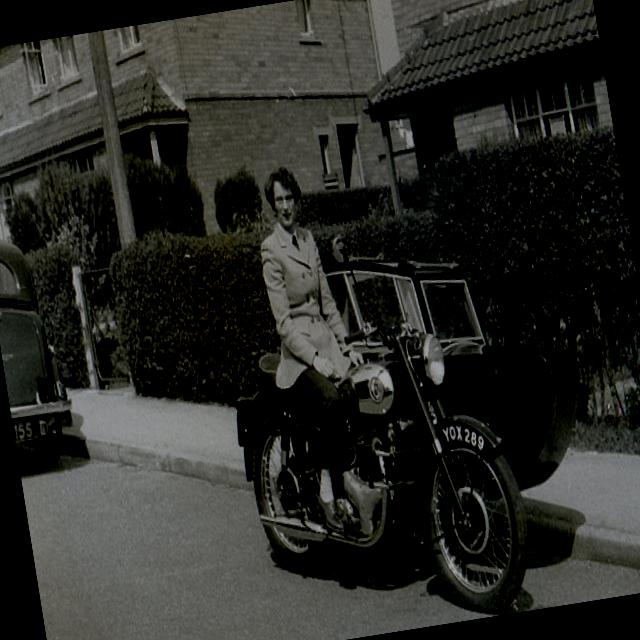Vehicle: (201, 209, 547, 640), (0, 225, 79, 467)
